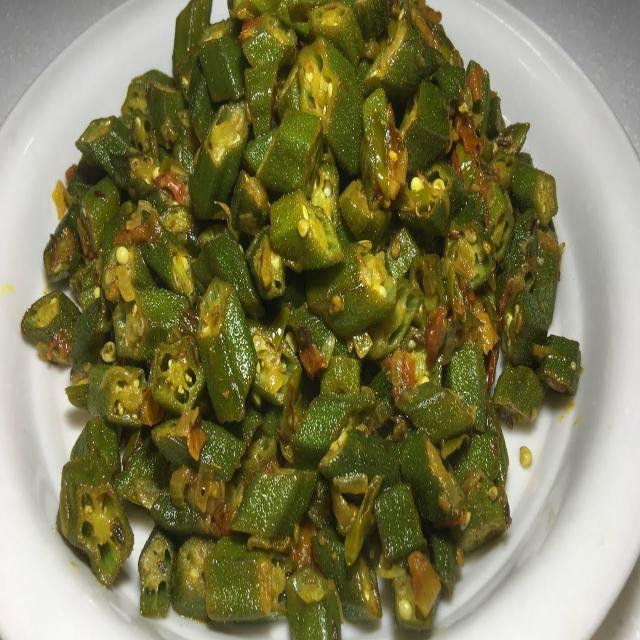BhindiMasala: (21, 0, 583, 640)
